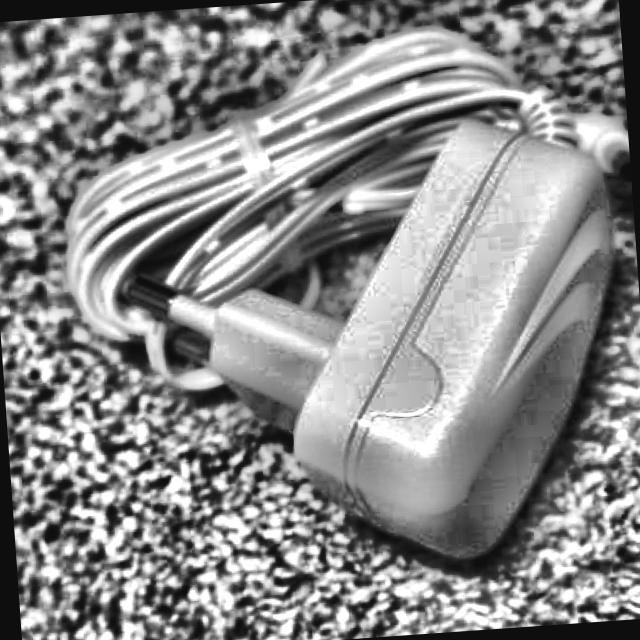Cable: (45, 8, 640, 402)
